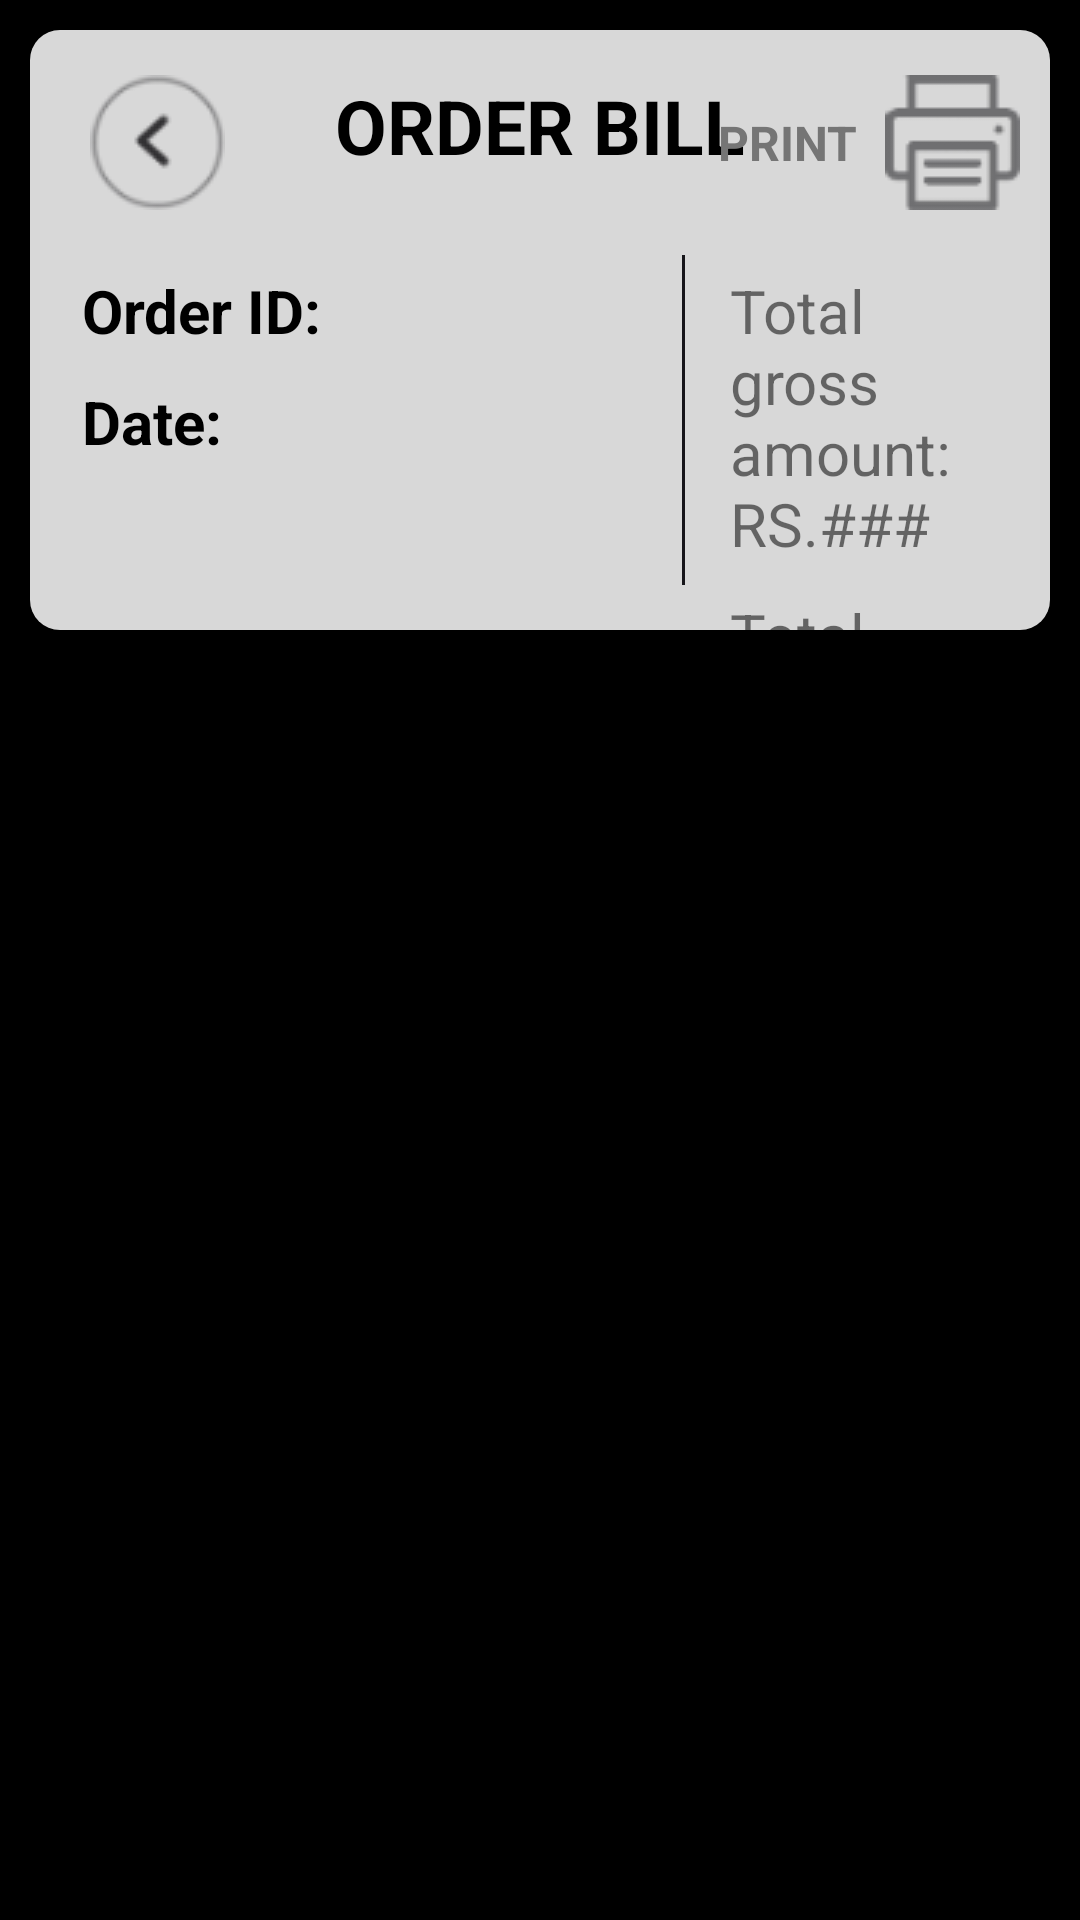

Named icons in this screenshot (1080 × 1920) and their bounding boxes, box(x1, y1, x2, y2):
back: box(90, 75, 223, 208)
